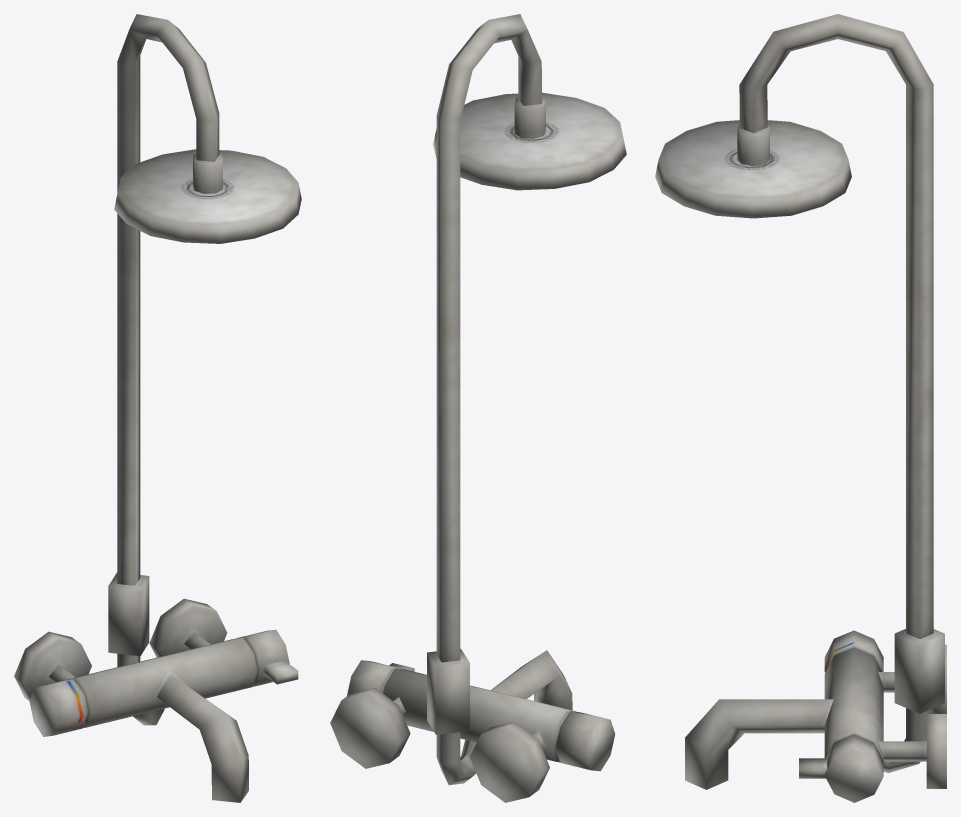
Rendered from sb_obj_ModernCity079_shower.fbx.
3 views of the same model, side by side, from view 1: azimuth 30°, elevation 25°; view 2: azimuth 150°, elevation 25°; view 3: azimuth 270°, elevation 25° (orthographic). The views are drawn at different scales.
Parts seen in each view (by area): view 1: sb_obj_ModernCity079_shower; view 2: sb_obj_ModernCity079_shower; view 3: sb_obj_ModernCity079_shower.
Part boxes in pixels (bbox=[...]): sb_obj_ModernCity079_shower: bbox=[14, 14, 301, 802]; sb_obj_ModernCity079_shower: bbox=[330, 14, 626, 802]; sb_obj_ModernCity079_shower: bbox=[655, 14, 946, 802].
Bounding box in the file's own units: 0.2915 × 0.8743 × 0.3015.
Materials: 1 (1 with a texture image).
